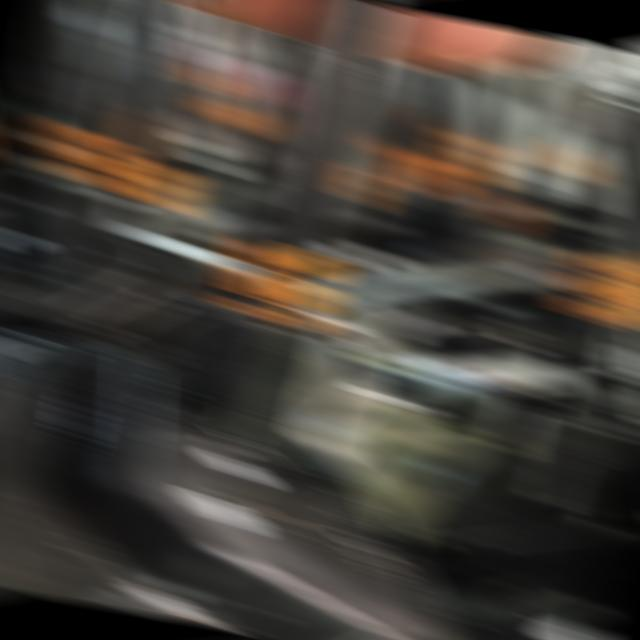orange: (218, 234, 339, 336), (559, 248, 640, 332), (54, 124, 139, 197), (123, 156, 200, 215)
